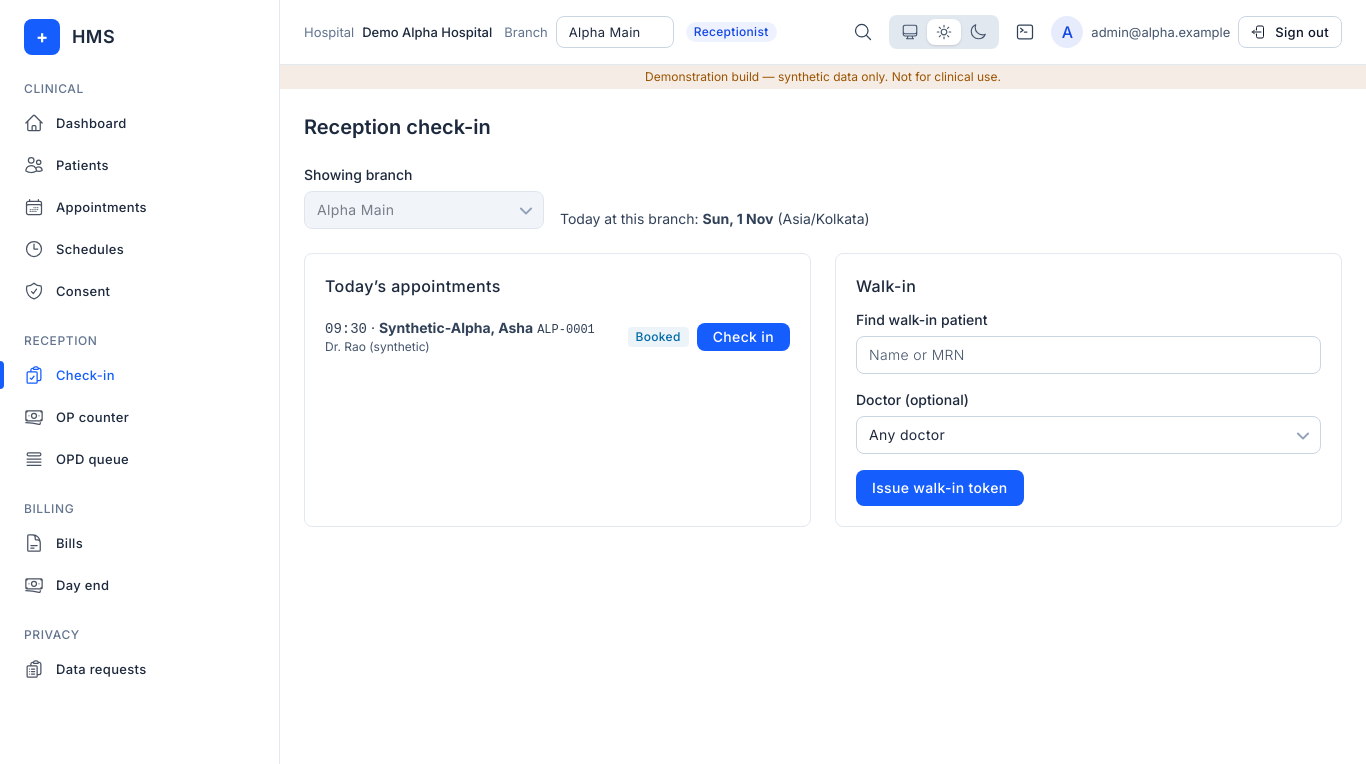
it: CheckInPage › checks in a booked appointment and shows the issued token
Expected: the list item with test id "checkin-appointment" shows "Synthetic-Alpha, Asha", [379,319,533,336]
What coordinates should you click on to do the following:
click the button with aria-label "Check in Asha Synthetic-Alpha at 09:30"
I would click on:
 (743, 336)
Its box is [697,322,790,350].
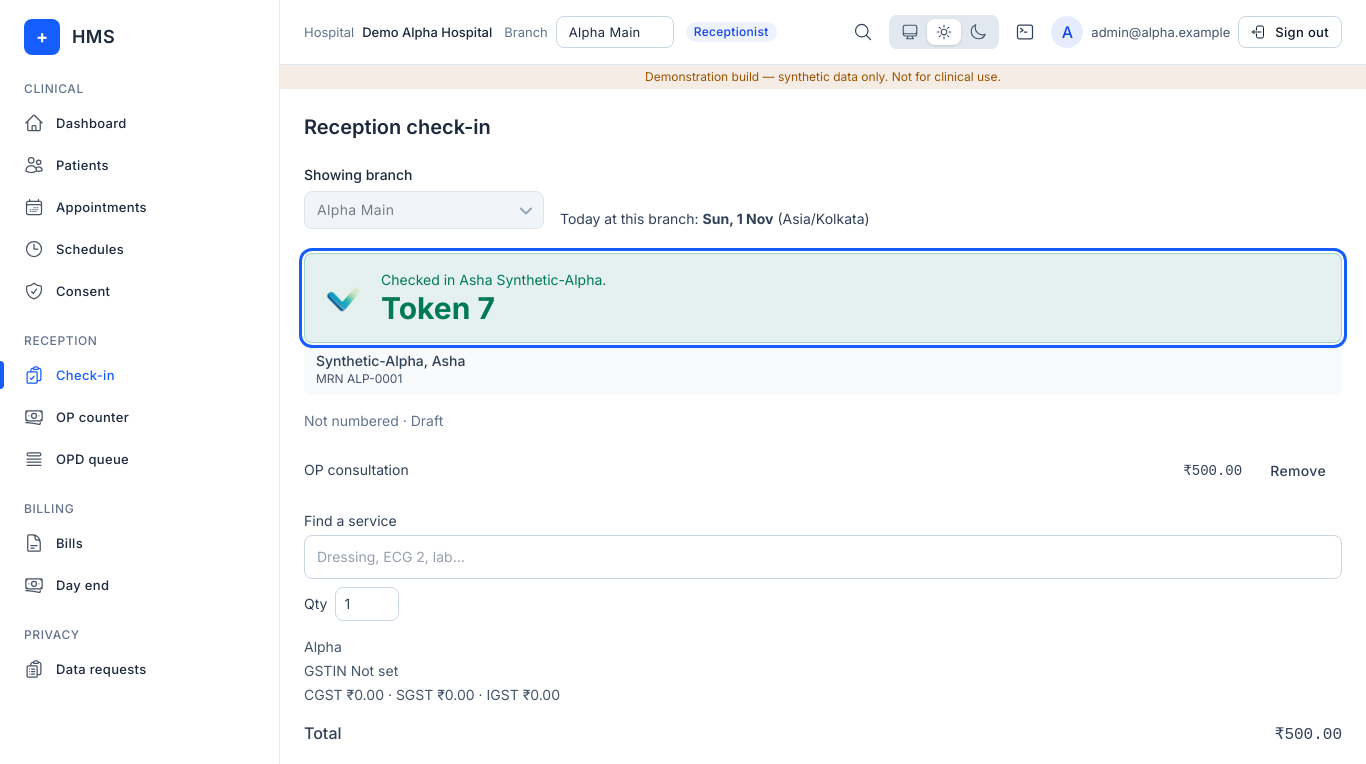
Result: the text with test id "token-number" reads "7" at [478,290,495,326]
Result: the element with test id "token-issued" shows "Checked in Asha Synthetic-Alpha." at [304,253,1342,343]
Result: the text "OP consultation" is shown at [304,460,409,480]
